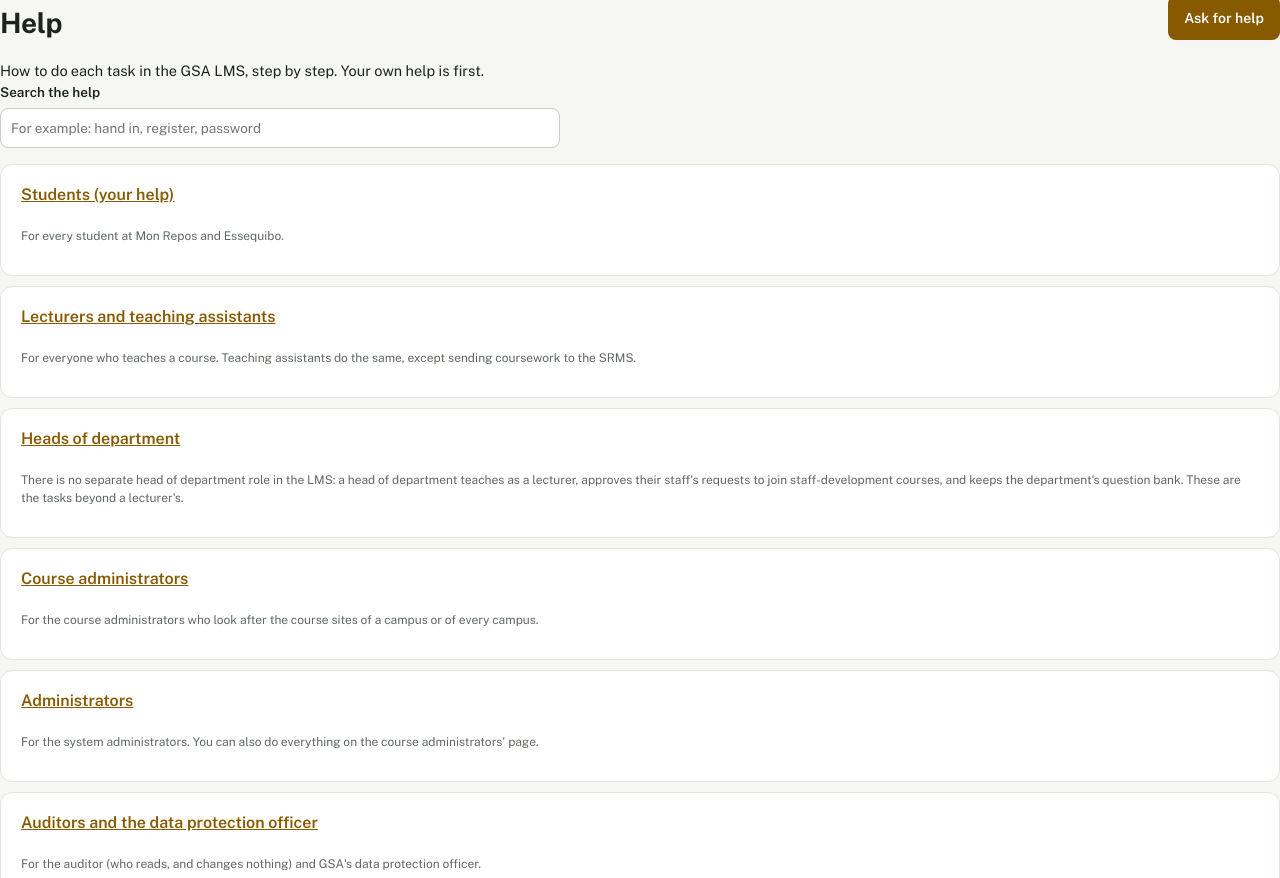
Test: the help pages › lists every role's help with the reader's own first, and searches it
Expected: the heading "Students (your help)" is shown, [21,185,174,204]
Step 1. Type "logbook" into the search field labelled "Search the help" → (280, 128), box [0,108,560,148]
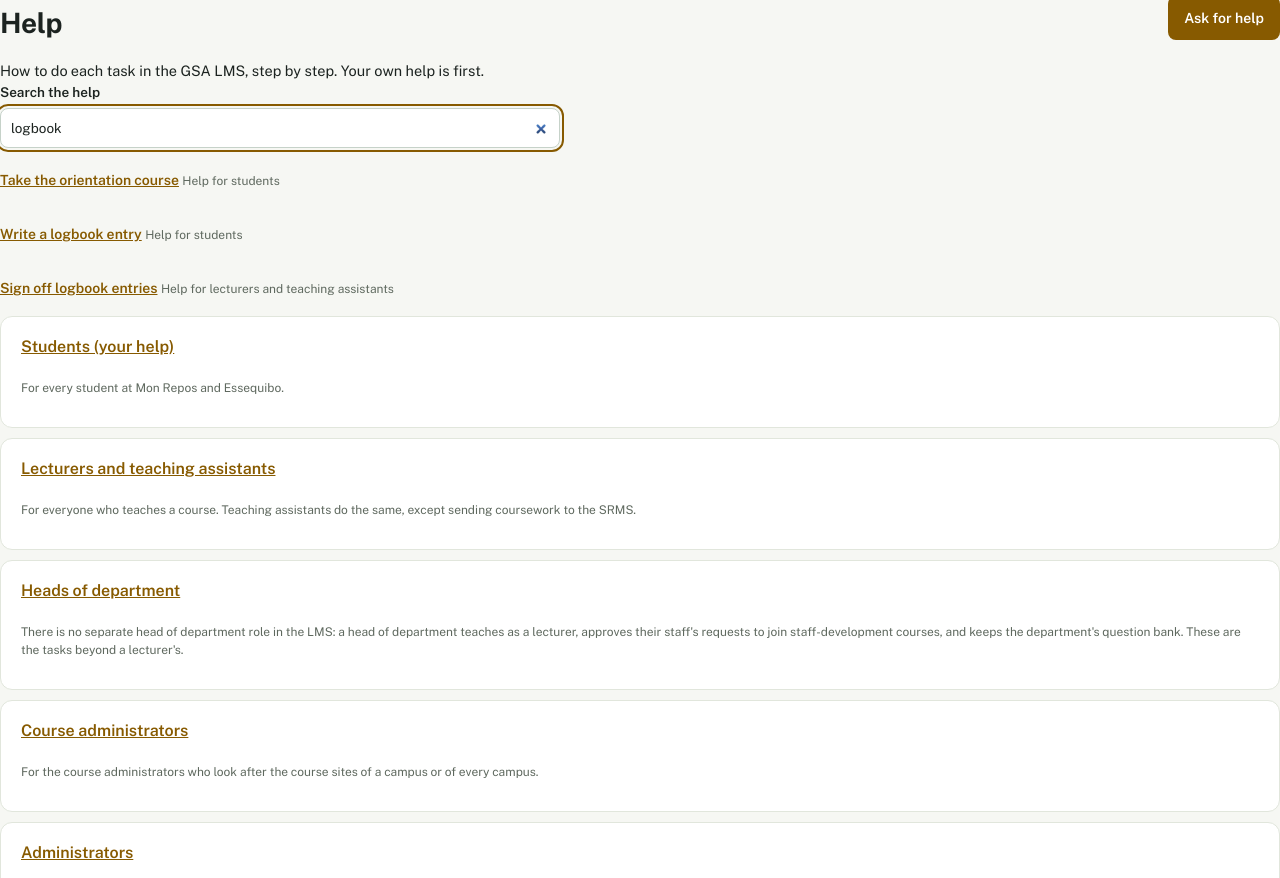
Step 2. Replace the text in the search field labelled "Search the help" with "zzzz" → (280, 128), box [0,108,560,148]
(page scrolled)
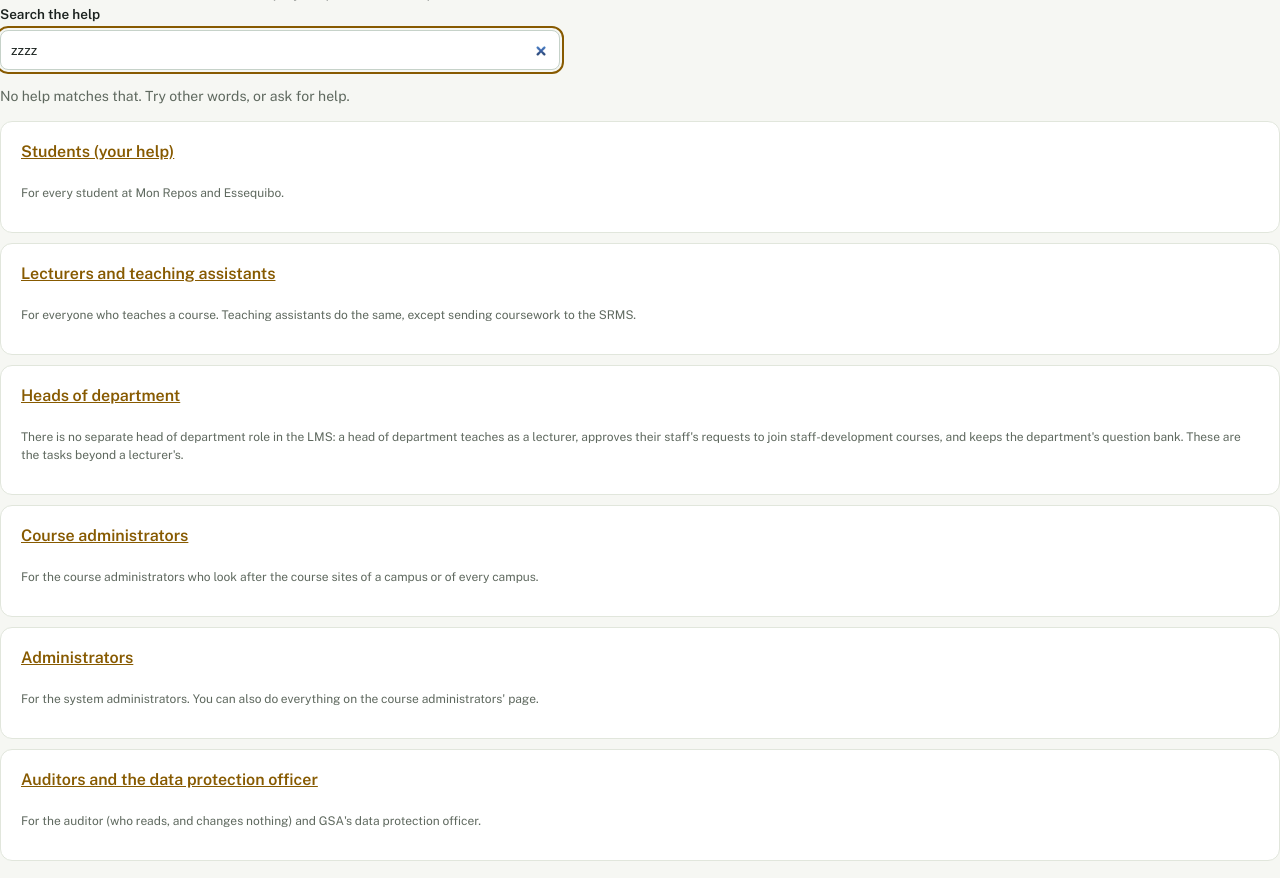
Result: the text "No help matches that. Try other words, or ask for help." is shown at [0,88,350,104]
